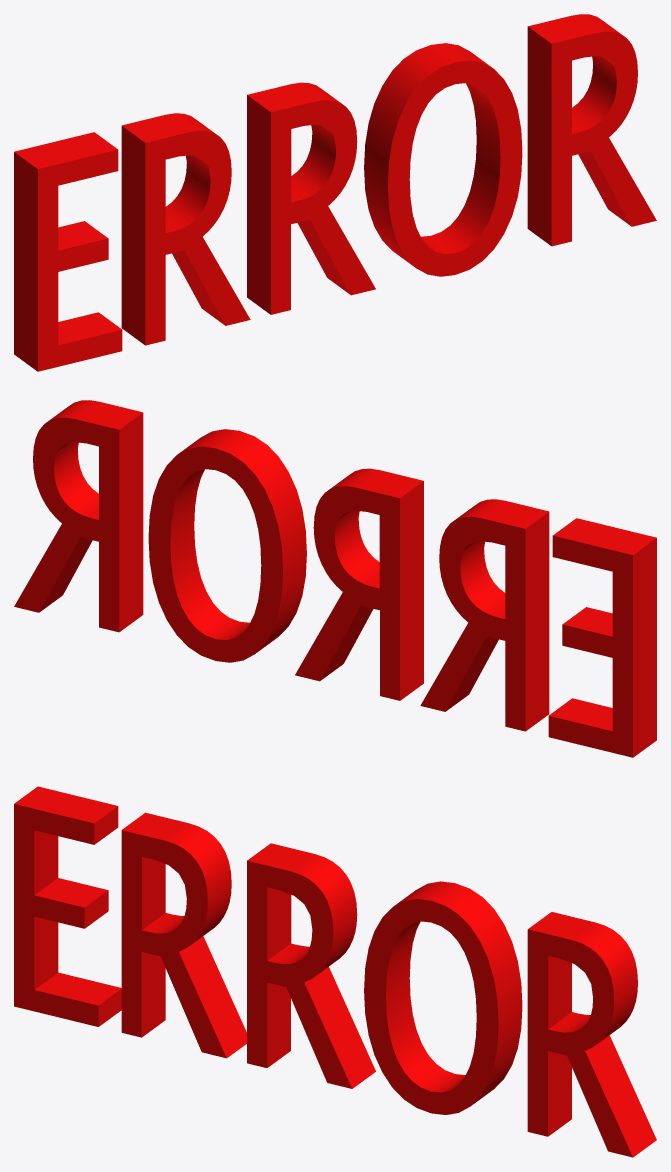
Rendered from Level3_wide_error.glb.
The picture shows the model from 3 angles, top to bottom: view 1: azimuth 30°, elevation 25°; view 2: azimuth 150°, elevation 25°; view 3: azimuth 330°, elevation 25°; orthographic projection.
Parts seen in each view (by area): view 1: typeMesh1; view 2: typeMesh1; view 3: typeMesh1.
Boxes of the visible parts, x1,y1,x2,y2 form: typeMesh1: (14,14,656,371); typeMesh1: (14,400,656,757); typeMesh1: (14,786,656,1157).
Bounding box in the file's own units: 6.86 × 2.25 × 0.4576.
Materials: 1 (1 with a texture image).
